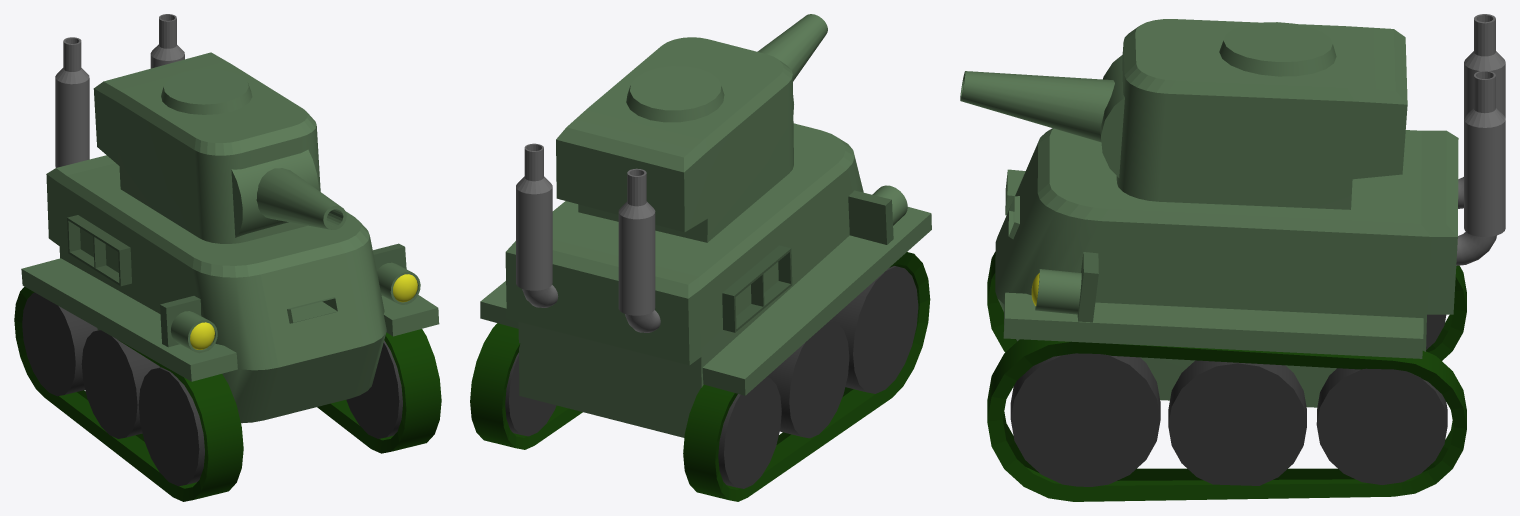
The model's file is tank_3d.fbx.
The picture shows the model from 3 angles, left to right: view 1: azimuth 30°, elevation 25°; view 2: azimuth 150°, elevation 25°; view 3: azimuth 270°, elevation 25°; orthographic projection. The views are drawn at different scales.
Parts seen in each view (by area): view 1: polySurface34, polySurface35; view 2: polySurface34, polySurface35, polySurface43; view 3: polySurface34, polySurface35.
Part boxes in pixels (<box>): polySurface34: <box>14,14,441,501</box>; polySurface35: <box>93,52,346,243</box>; polySurface34: <box>470,123,931,501</box>; polySurface35: <box>556,14,827,242</box>; polySurface43: <box>625,310,660,332</box>; polySurface34: <box>987,14,1505,501</box>; polySurface35: <box>960,19,1407,209</box>.
Size of the model in its own units: 79.93 by 99.1 by 125.
